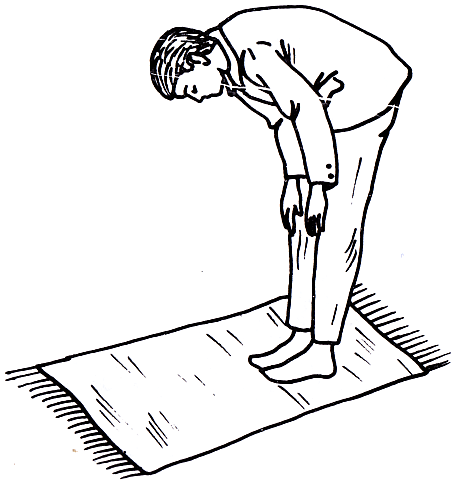ruku: (92, 5, 443, 400)
